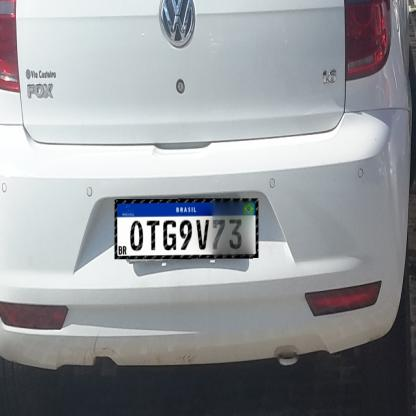PlacaM: (115, 198, 258, 260)
